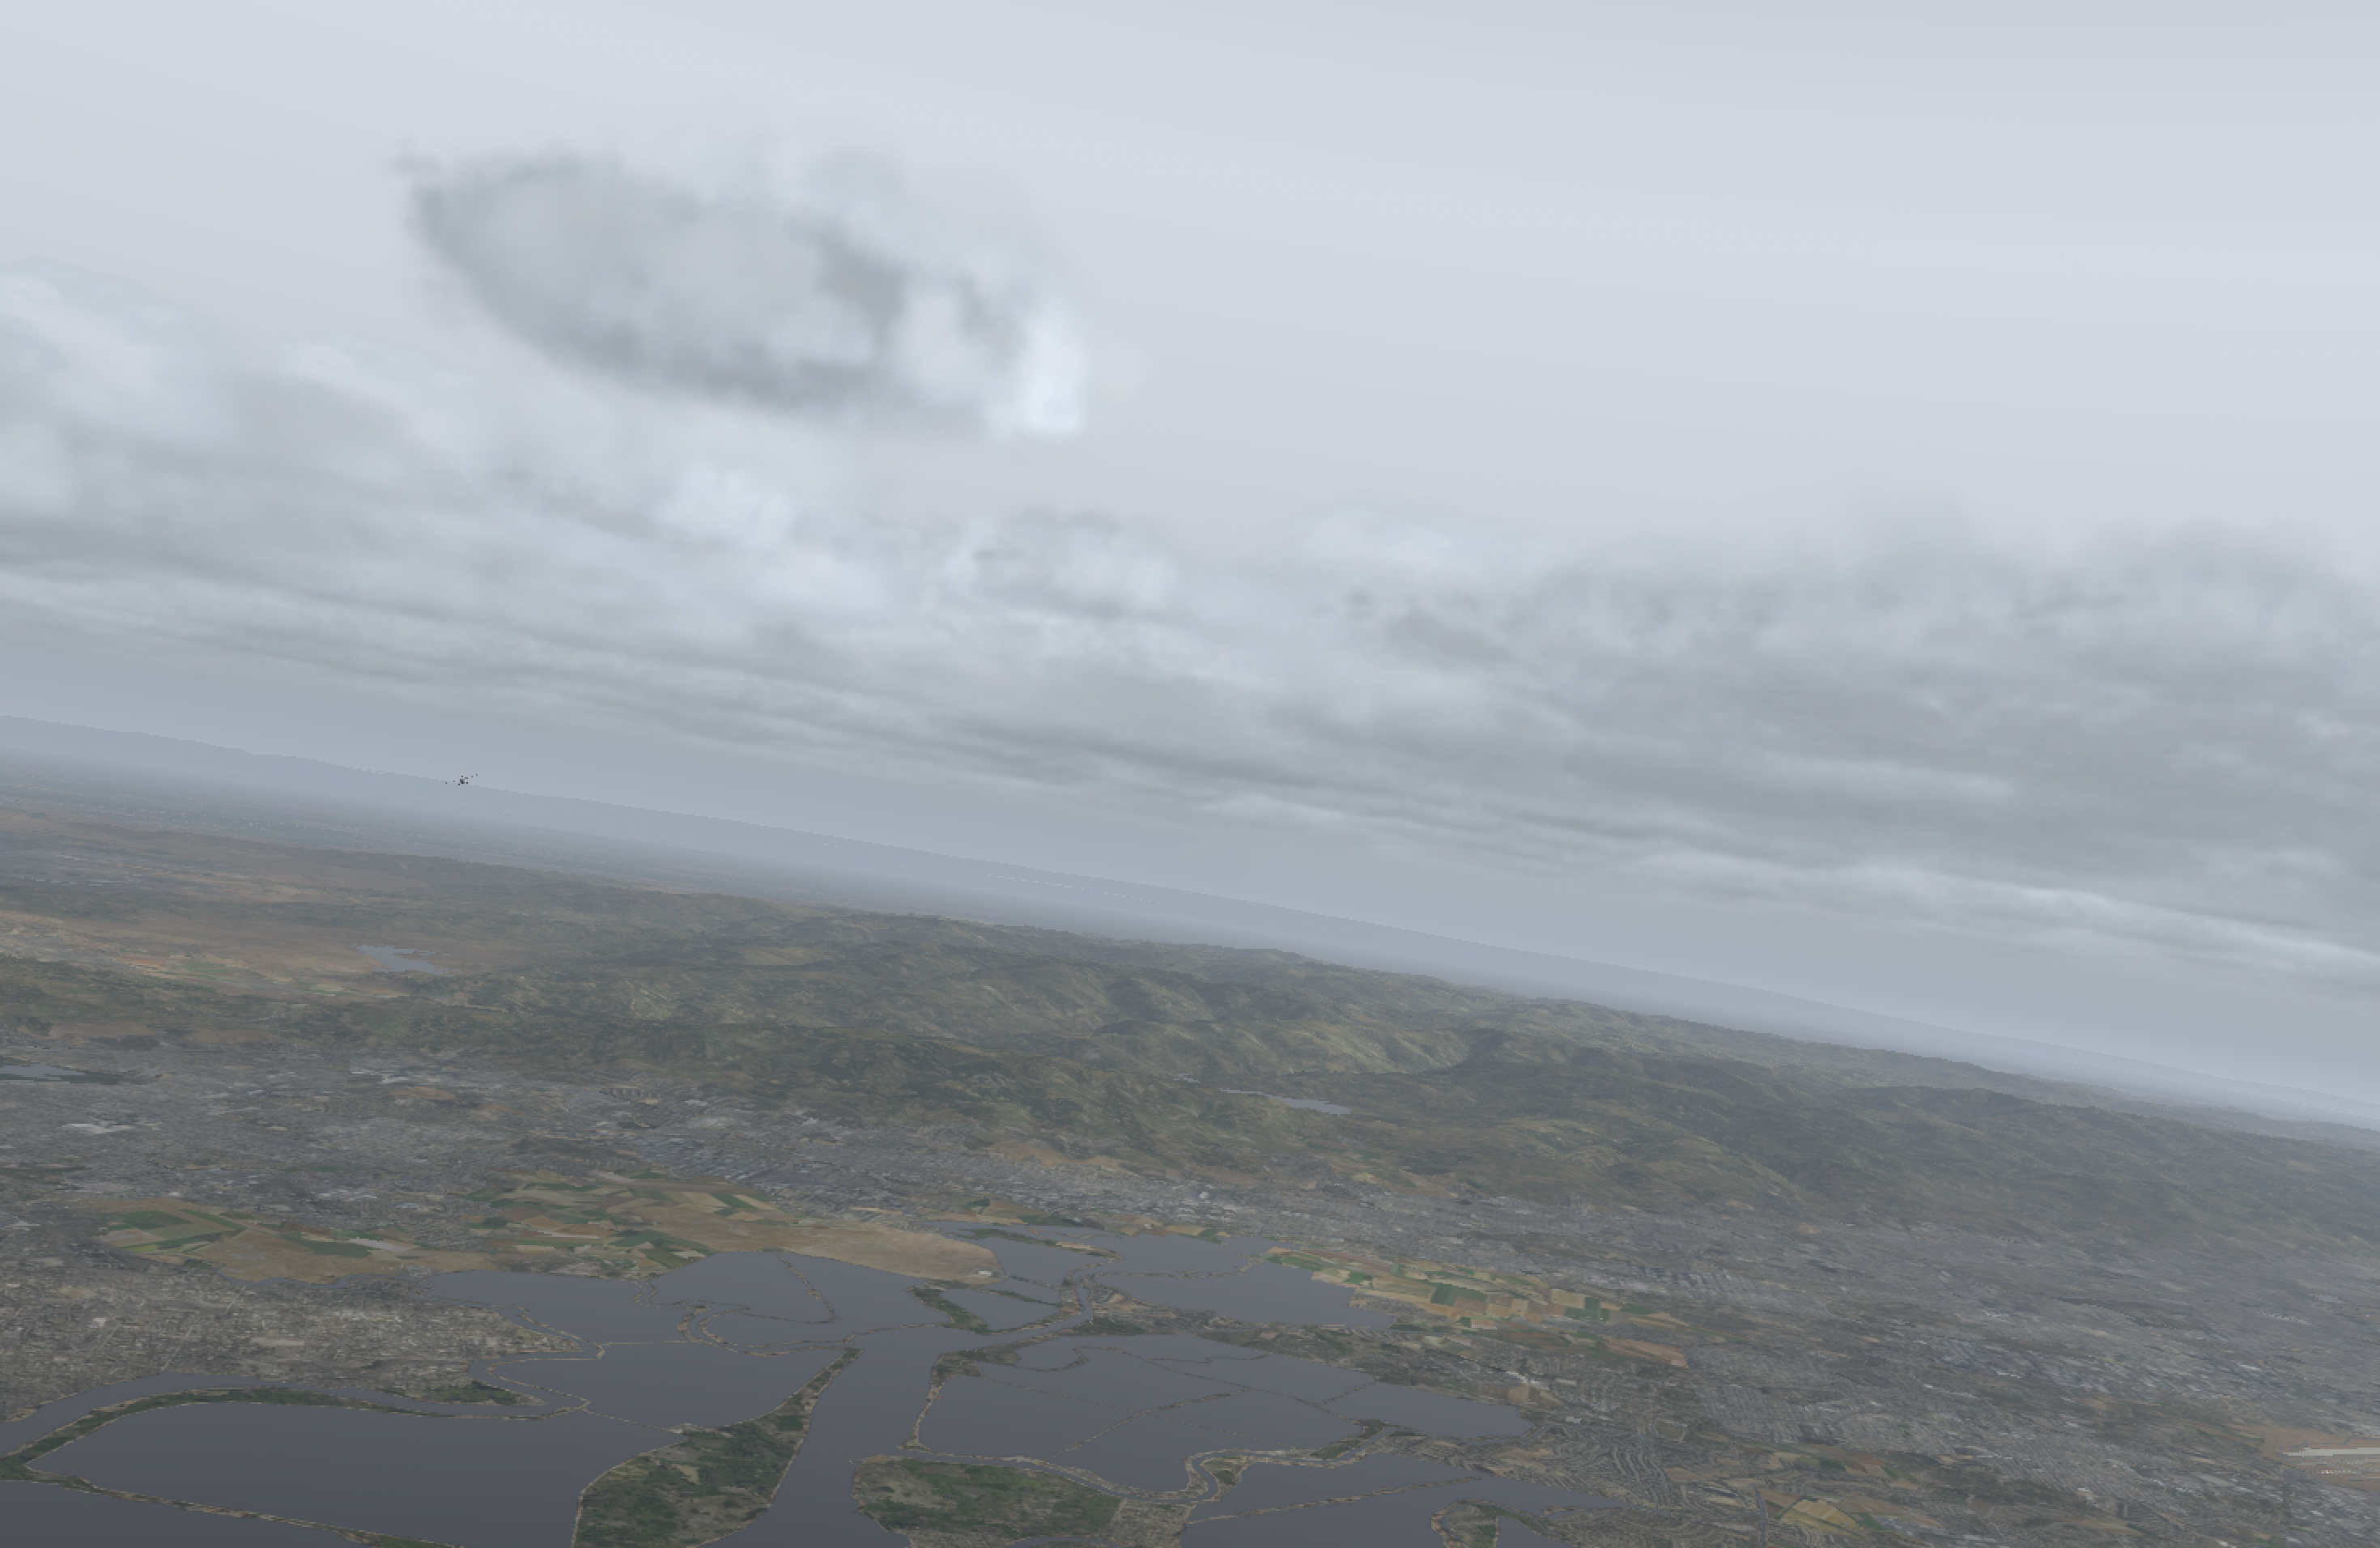aircraft: (451, 777, 474, 784)
